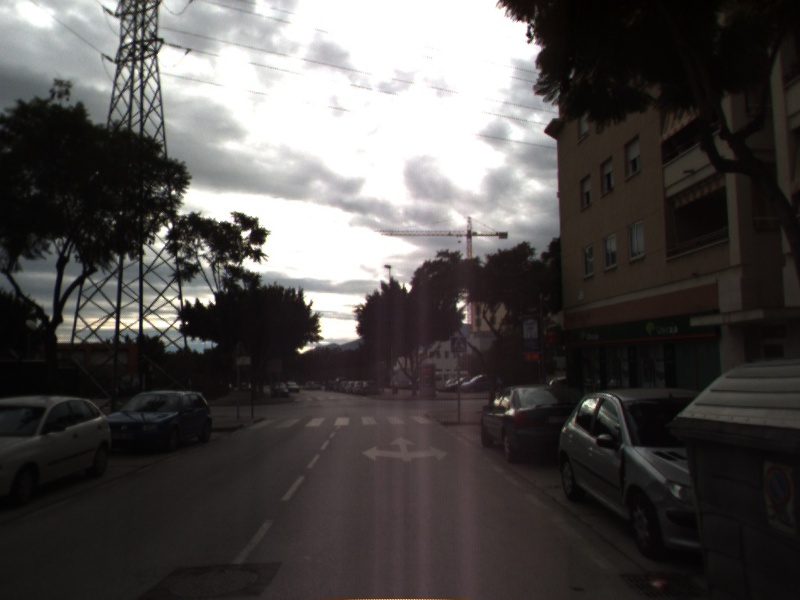STRAIGHT_LEFT_RIGHT: (360, 435, 451, 464)
